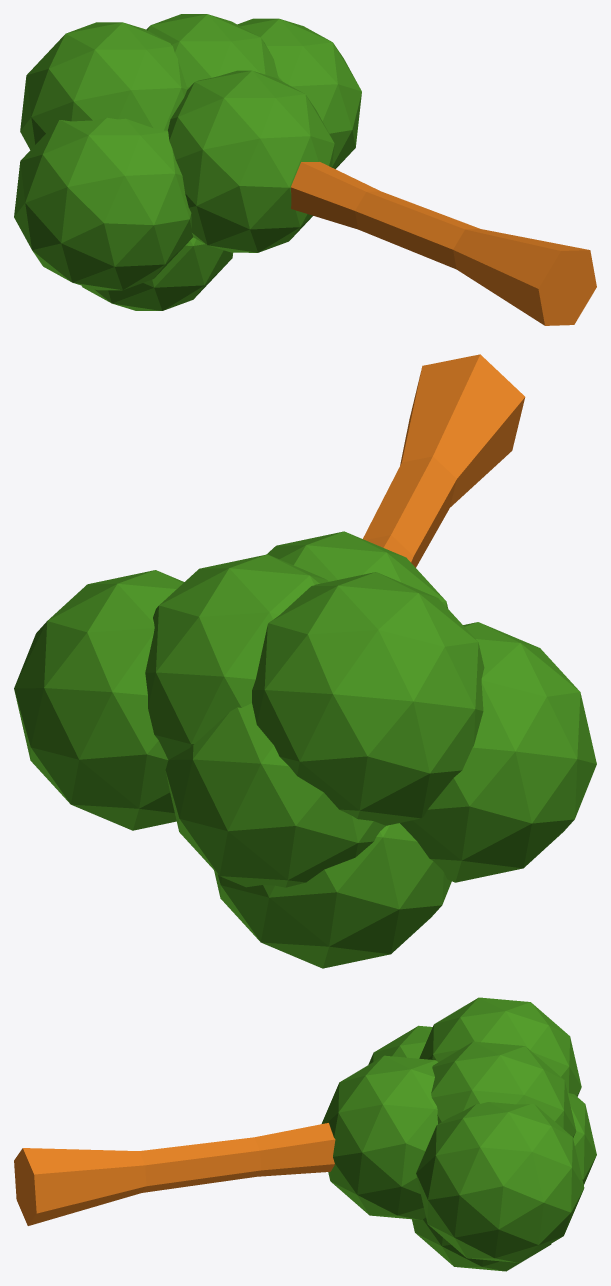
The model's file is tree7.fbx.
The picture shows the model from 3 angles, top to bottom: view 1: azimuth 30°, elevation 25°; view 2: azimuth 150°, elevation 25°; view 3: azimuth 270°, elevation 25°; orthographic projection. The views are drawn at different scales.
Visible parts, largest first — view 1: Cylinder; view 2: Cylinder; view 3: Cylinder.
Boxes of the visible parts, left/top/right/bottom form: Cylinder: left=14, top=14, right=596, bottom=325; Cylinder: left=14, top=354, right=596, bottom=968; Cylinder: left=14, top=997, right=596, bottom=1271.
Size of the model in its own units: 132 by 96.96 by 207.
